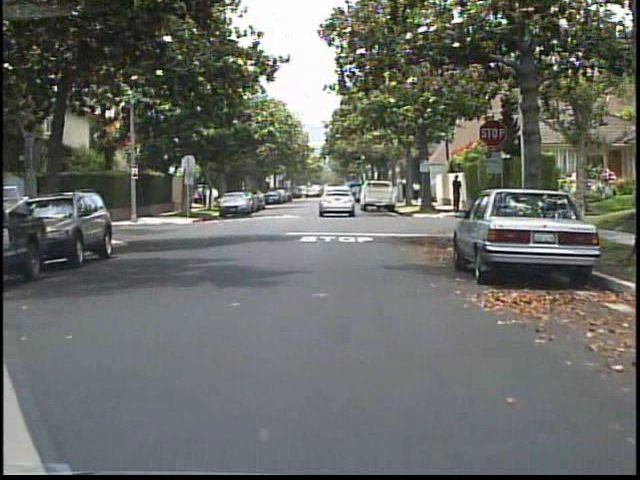person: (448, 175, 467, 213), (413, 178, 424, 205)
